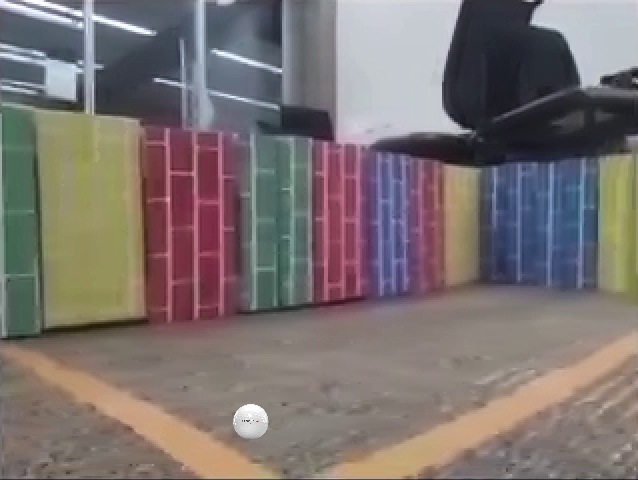bottle: (165, 261, 216, 445)
